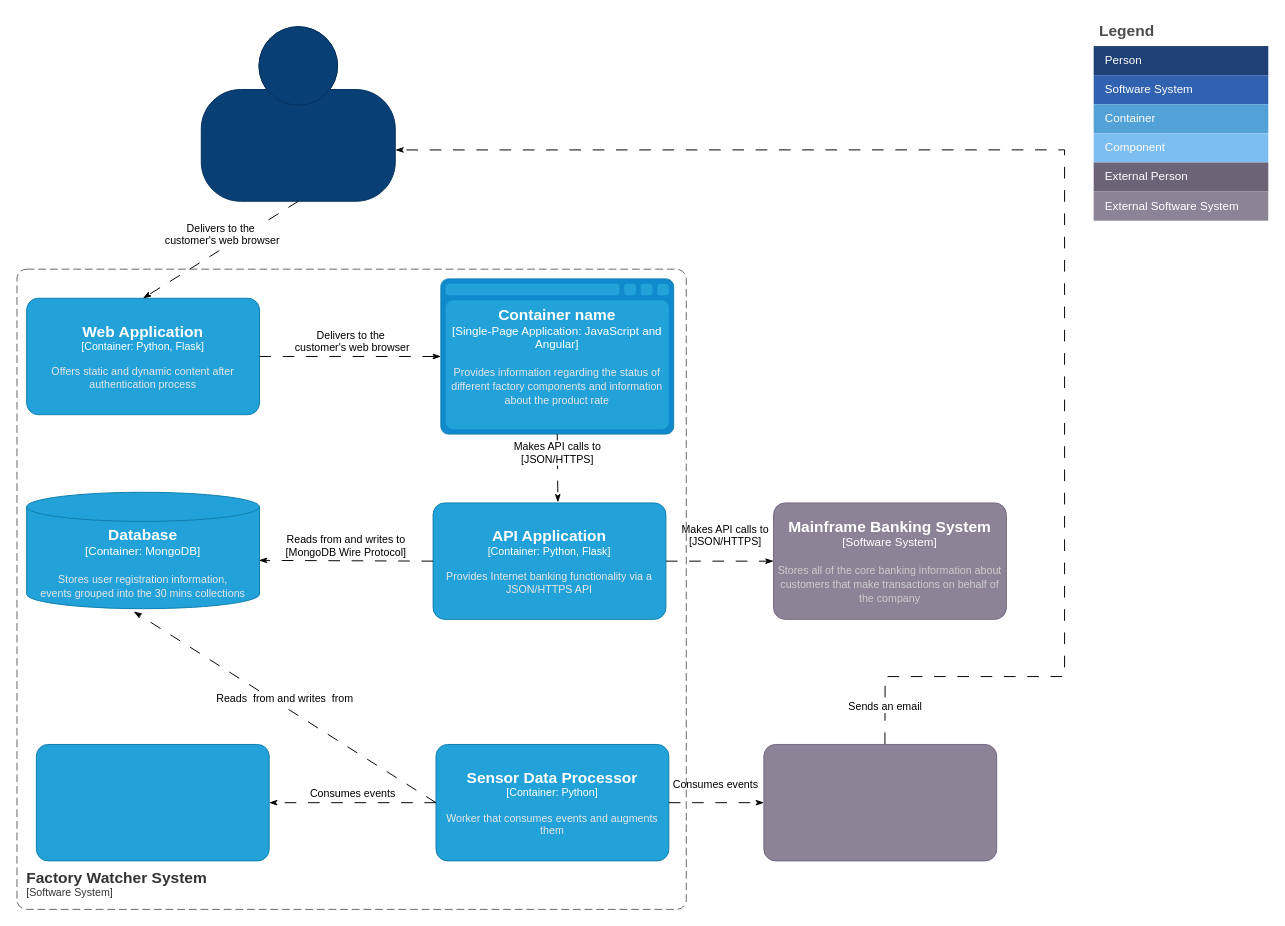
This 1285x926 diagram has some shape labels left out. Here are the shapes that lost their labels. From the top down, the centre of each, then its label:
the point at 297,113: Factory Personnel [Person] System Performance Analysts that track key metrics
the point at 152,802: IoT Node [Container: Python] Converts signals from the sensors into events
the point at 880,802: E-mail System [Software System] Uses SMTP for sending alert emails
